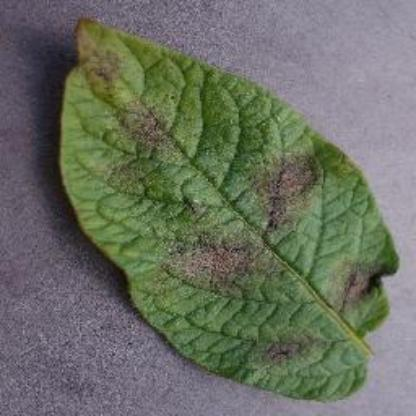Late-Blight: (50, 11, 398, 403)
